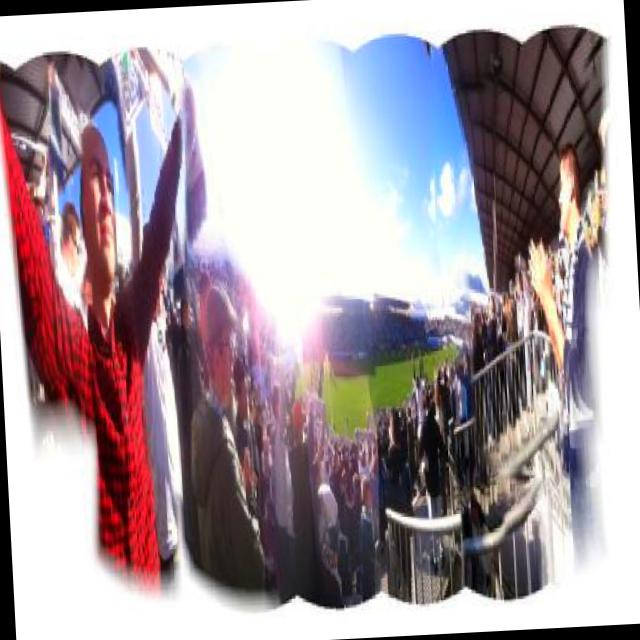Person: (0, 98, 195, 591), (168, 248, 258, 582), (268, 368, 294, 602), (314, 489, 343, 631)
